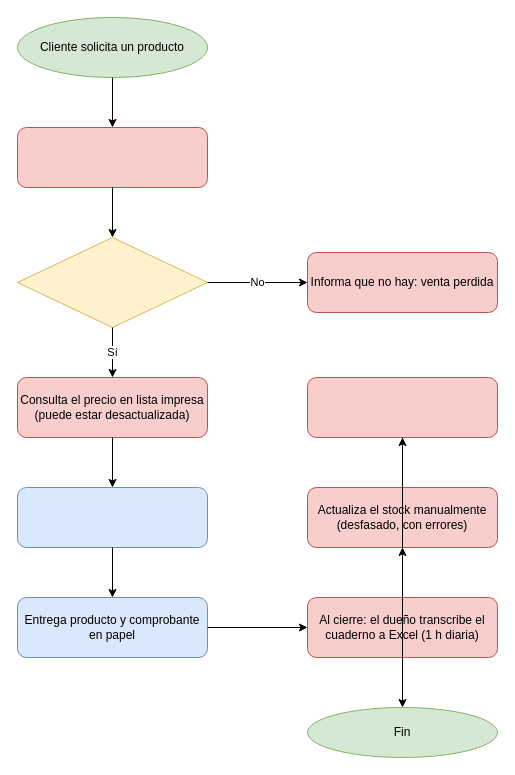
This 515x775 diagram has some shape labels left out. Here are the shapes that lost their labels. From the top down, the centre of each, then its label:
At (x=112, y=157): "Vendedor va al almacén a verificar el stock físicamente".
At (x=112, y=282): "¿Hay stock?".
At (x=402, y=407): "Reporte consolidado manual (40 min)".
At (x=112, y=517): "Anota la venta en el cuaderno".
